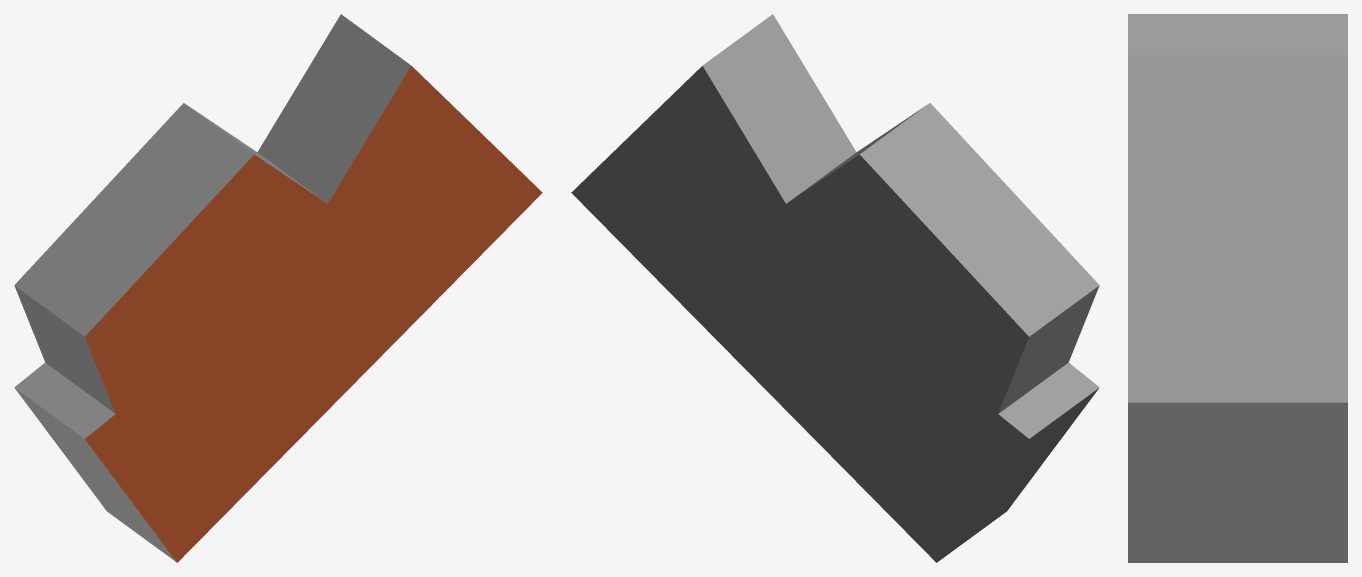
File: construction_5478_actual_A_Casa_h5m.obj
3 views of the same model, side by side, from view 1: azimuth 30°, elevation 25°; view 2: azimuth 150°, elevation 25°; view 3: azimuth 270°, elevation 25° (orthographic). The views are drawn at different scales.
Visible parts, largest first — view 1: construction_5478_actual_A_Casa; view 2: construction_5478_actual_A_Casa; view 3: construction_5478_actual_A_Casa.
Part boxes in pixels (bbox=[...]): construction_5478_actual_A_Casa: bbox=[14, 14, 542, 562]; construction_5478_actual_A_Casa: bbox=[571, 14, 1099, 562]; construction_5478_actual_A_Casa: bbox=[1128, 14, 1347, 562].
Size of the model in its own units: 18.75 by 17.22 by 5.
